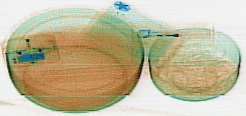lighter: (136, 27, 210, 40)
